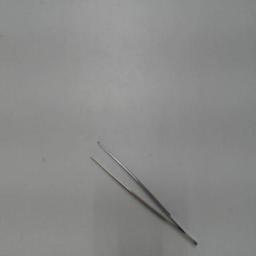Gillies Toothed Dissector: (89, 132, 201, 250)
